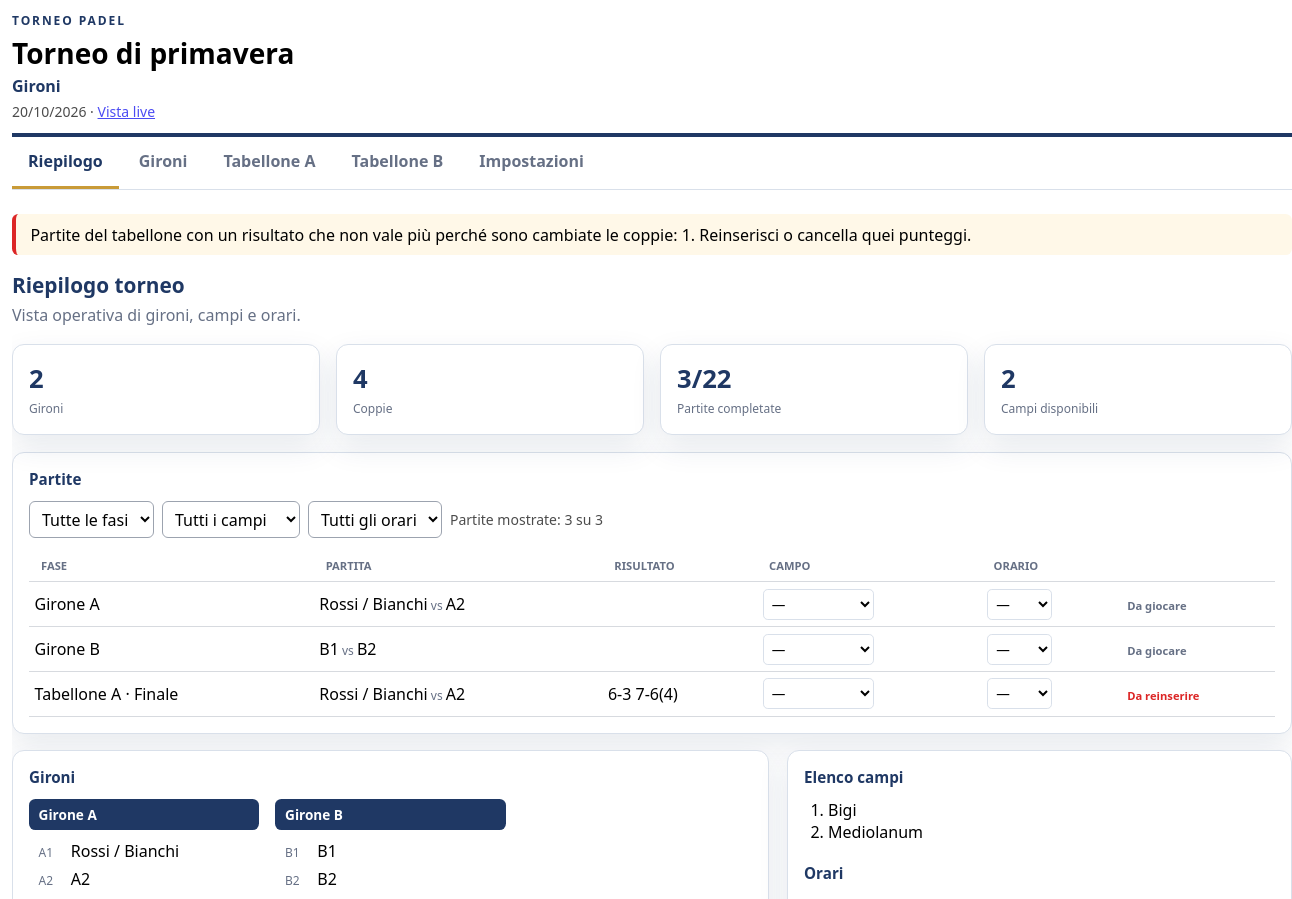
Scenario: TournamentPage › has a tab per bracket and warns about results that no longer count
Step 1. Click the button "Tabellone B" → point(397, 163), box [336,137,459,189]
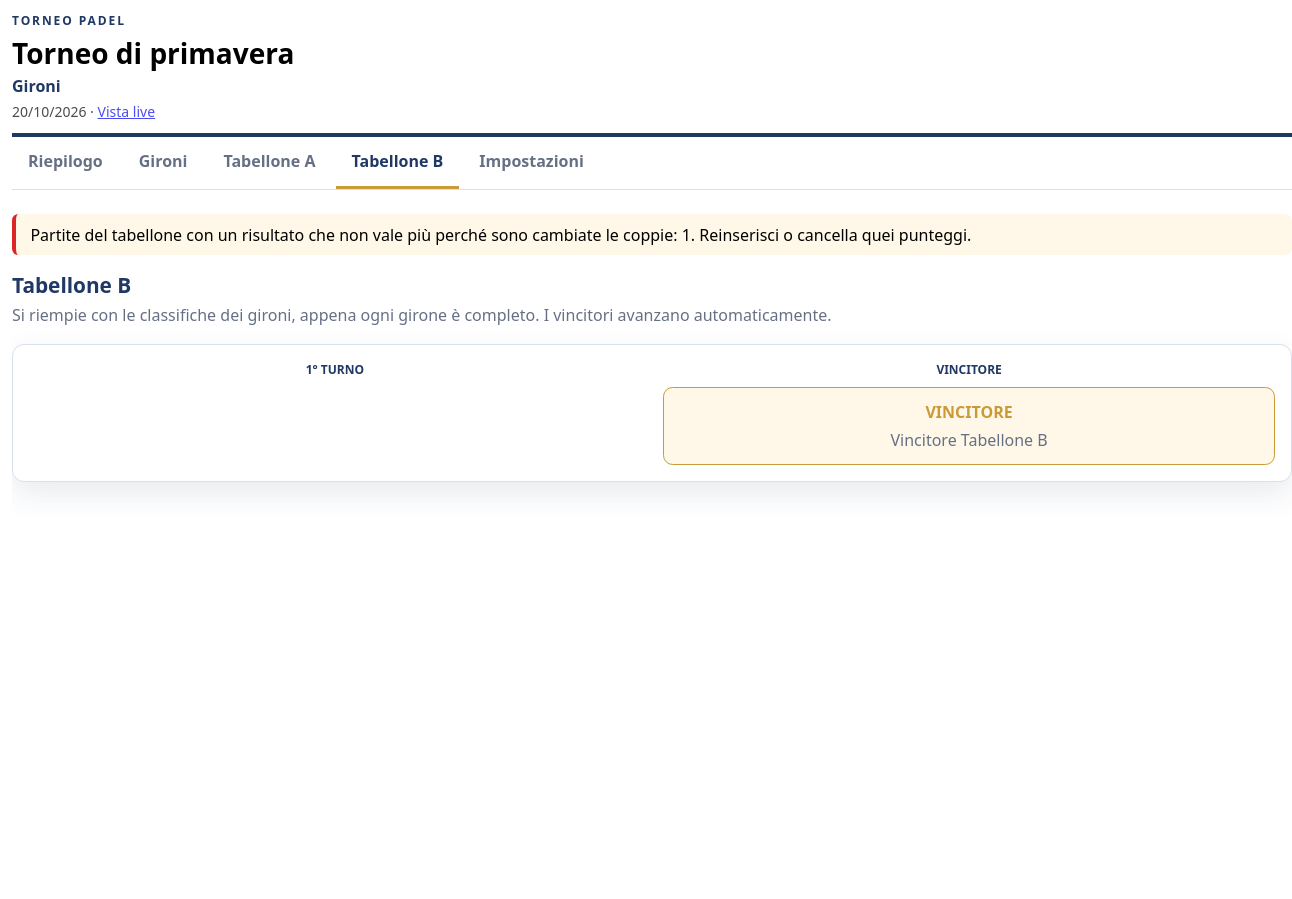
Expected: the message shows "risultato che non vale più perché sono cambiate le coppie: 1.", [30,224,971,246]
Expected: the heading "Tabellone B" is shown, [12,271,131,299]
